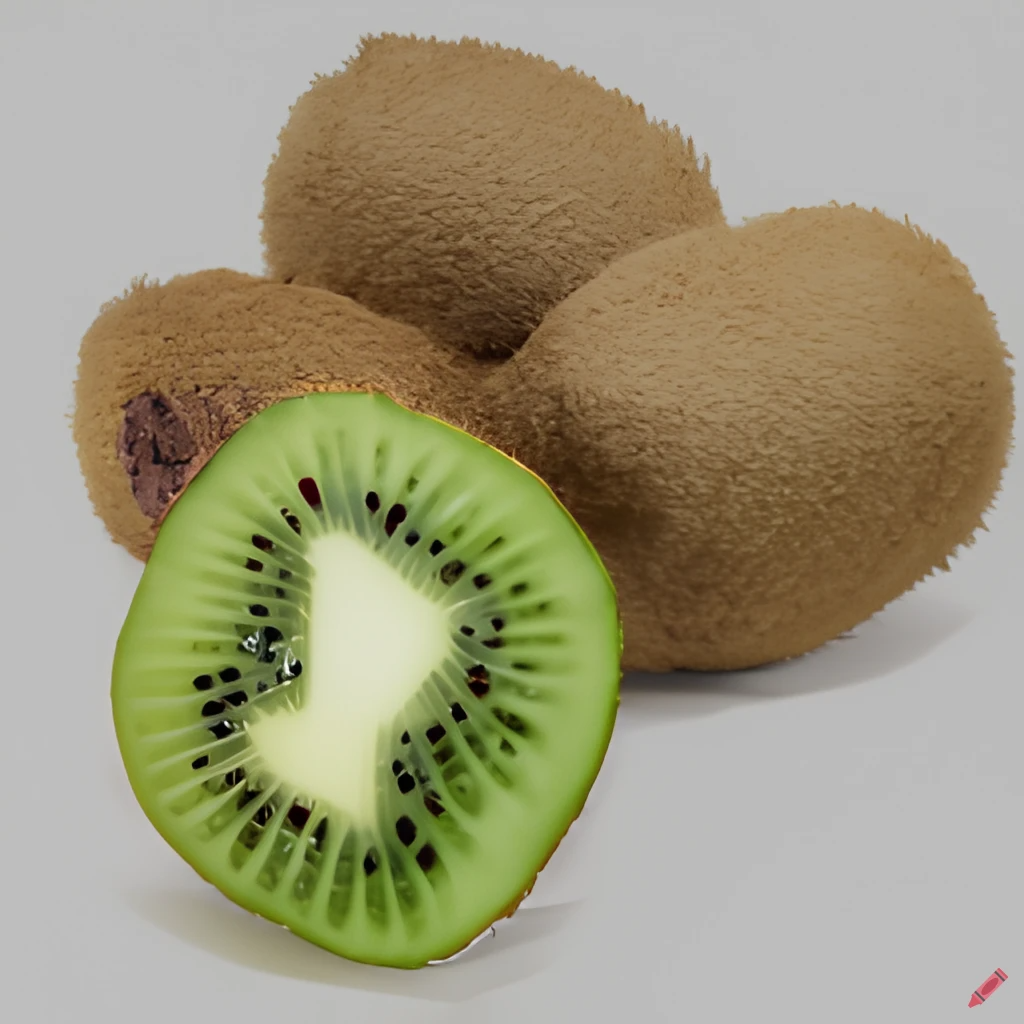Kiwi: (76, 381, 626, 1000), (479, 162, 1022, 716), (238, 0, 732, 358)
